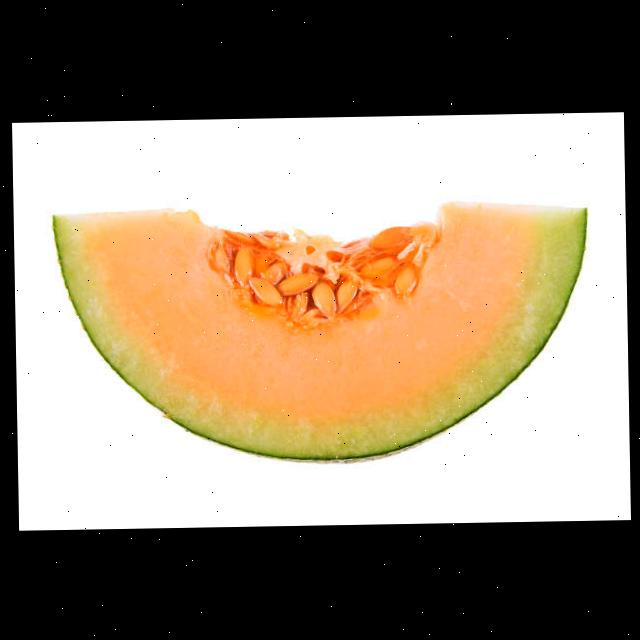Hami Melon: (48, 197, 590, 467)
